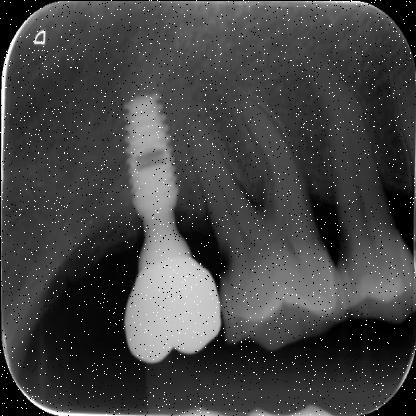Bicon: (111, 76, 185, 230)
